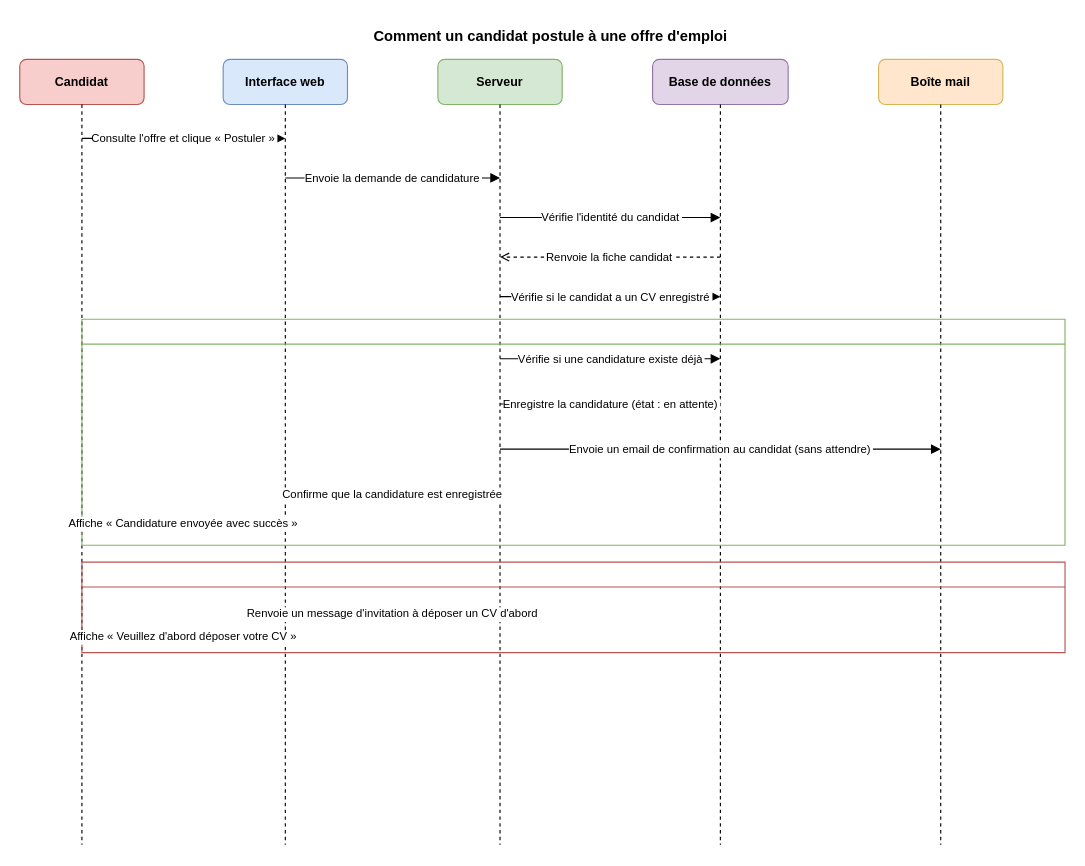
The diagram is 1085 pixels wide and 866 high, and some of its shapes have lost their labels. Each missing label, with the centre of its shape:
"Le candidat a un CV enregistré" goes at (x=573, y=431).
"Le candidat n'a pas encore de CV enregistré" goes at (x=573, y=607).
